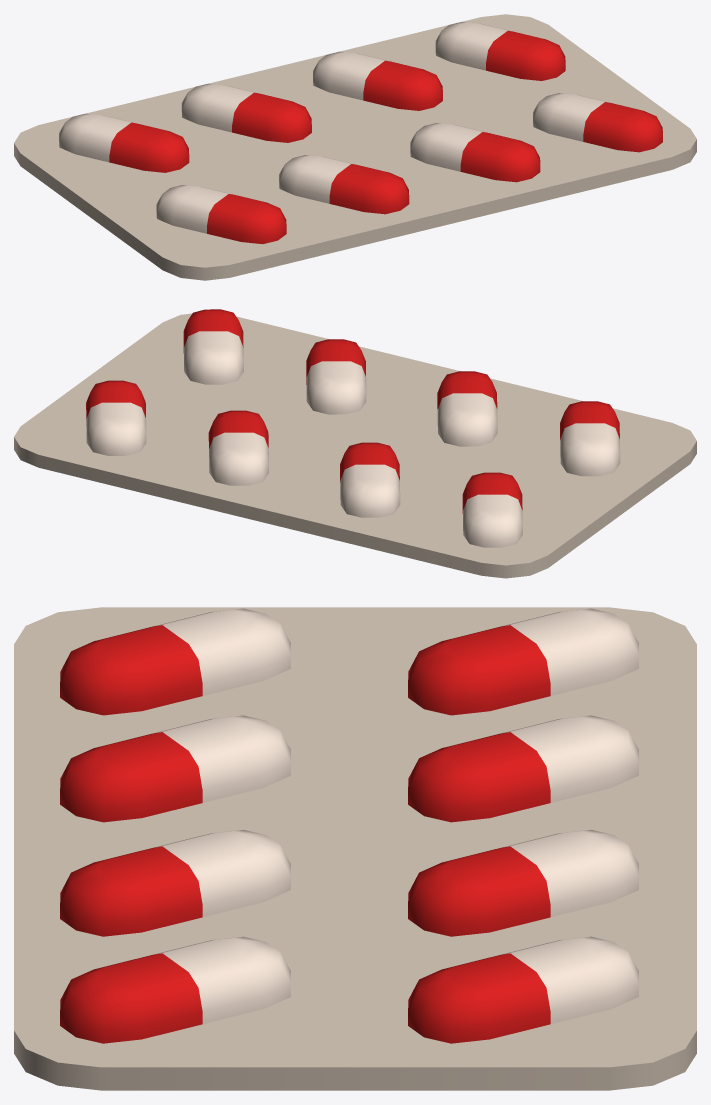
Rendered from SM_Props_Medical_14.fbx.
3 renders of one model, top to bottom at view 1: azimuth 30°, elevation 25°; view 2: azimuth 150°, elevation 25°; view 3: azimuth 270°, elevation 25°, orthographic. The views are drawn at different scales.
Parts seen in each view (by area): view 1: SM_Props_Medical_14; view 2: SM_Props_Medical_14; view 3: SM_Props_Medical_14.
Part boxes in pixels (box(x1,y1,x2,y2)): SM_Props_Medical_14: box(14, 14, 696, 280); SM_Props_Medical_14: box(14, 309, 696, 578); SM_Props_Medical_14: box(14, 607, 696, 1090).
Size of the model in its own units: 0.0961 by 0.00637 by 0.0603.
